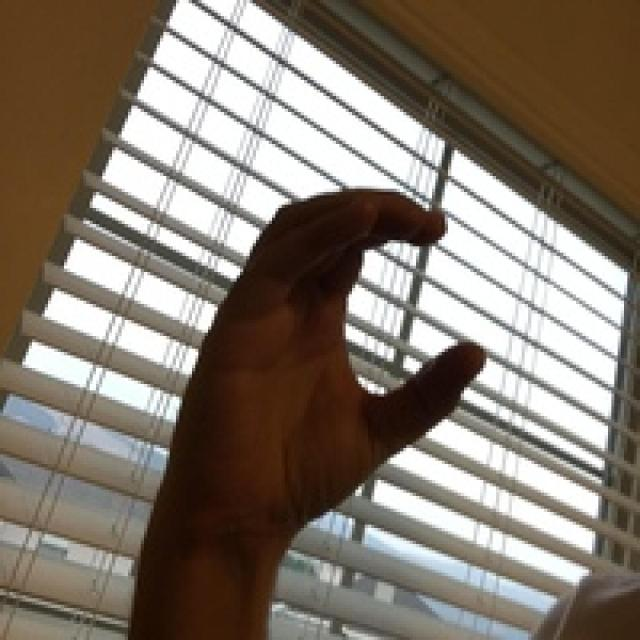C: (119, 132, 518, 562)
